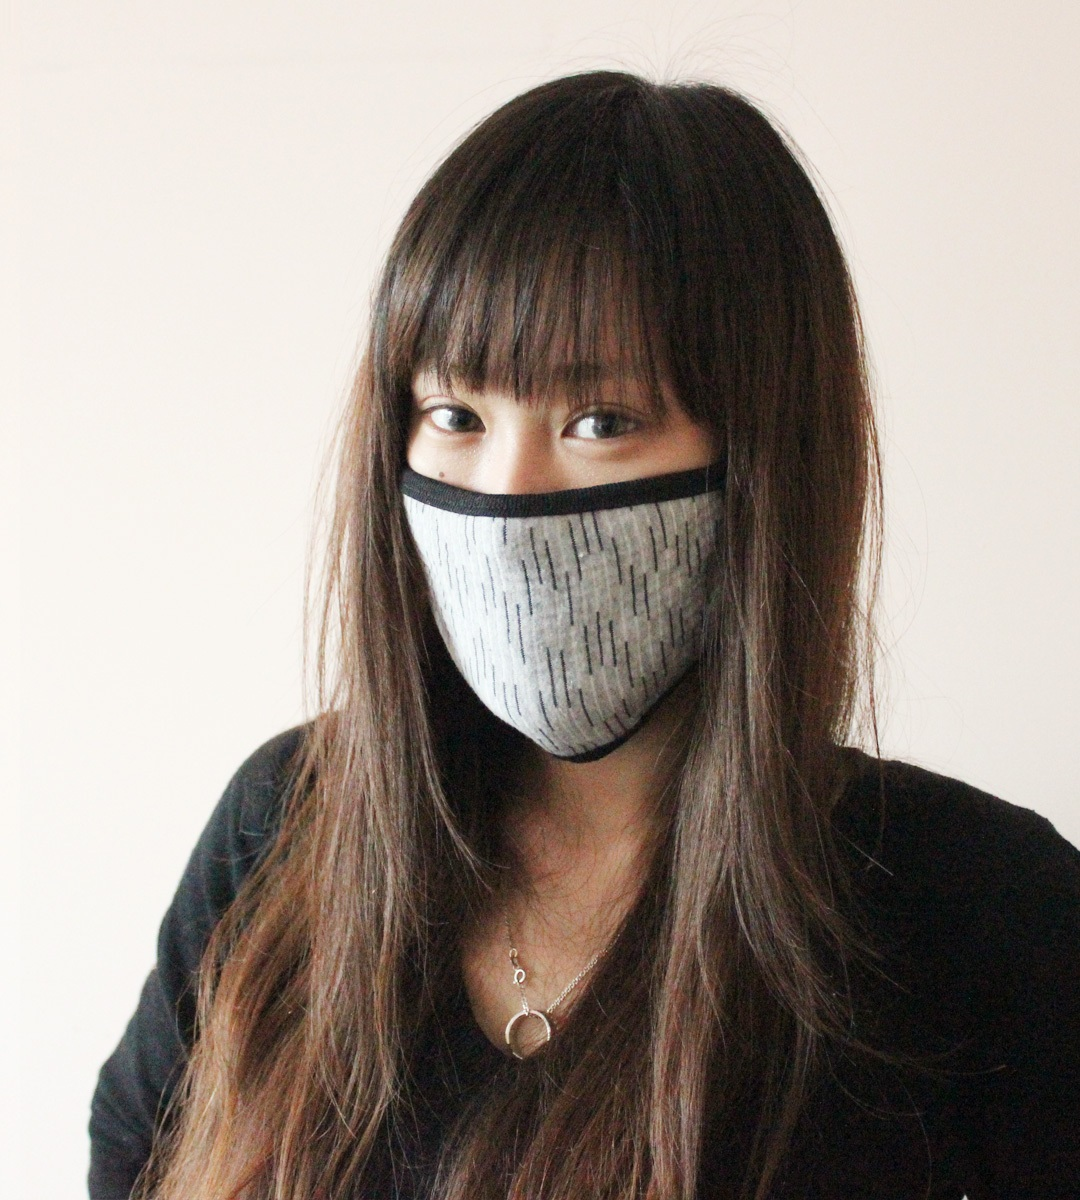face_mask: (402, 242, 724, 716)
